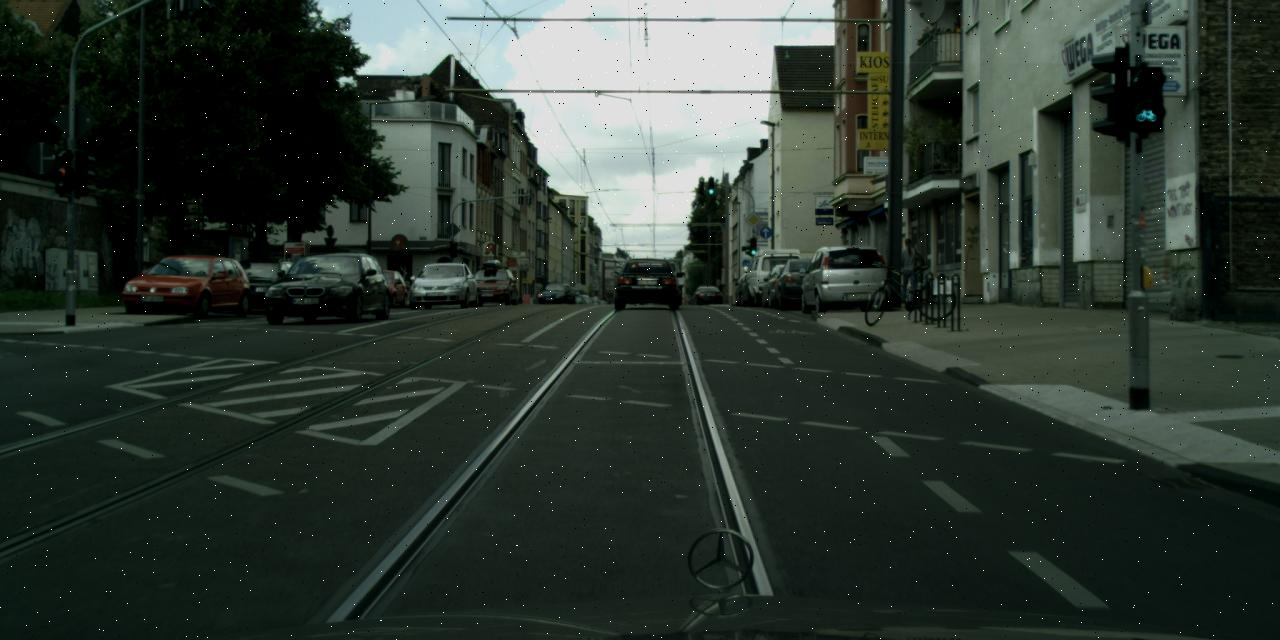ped: (895, 238, 920, 302)
